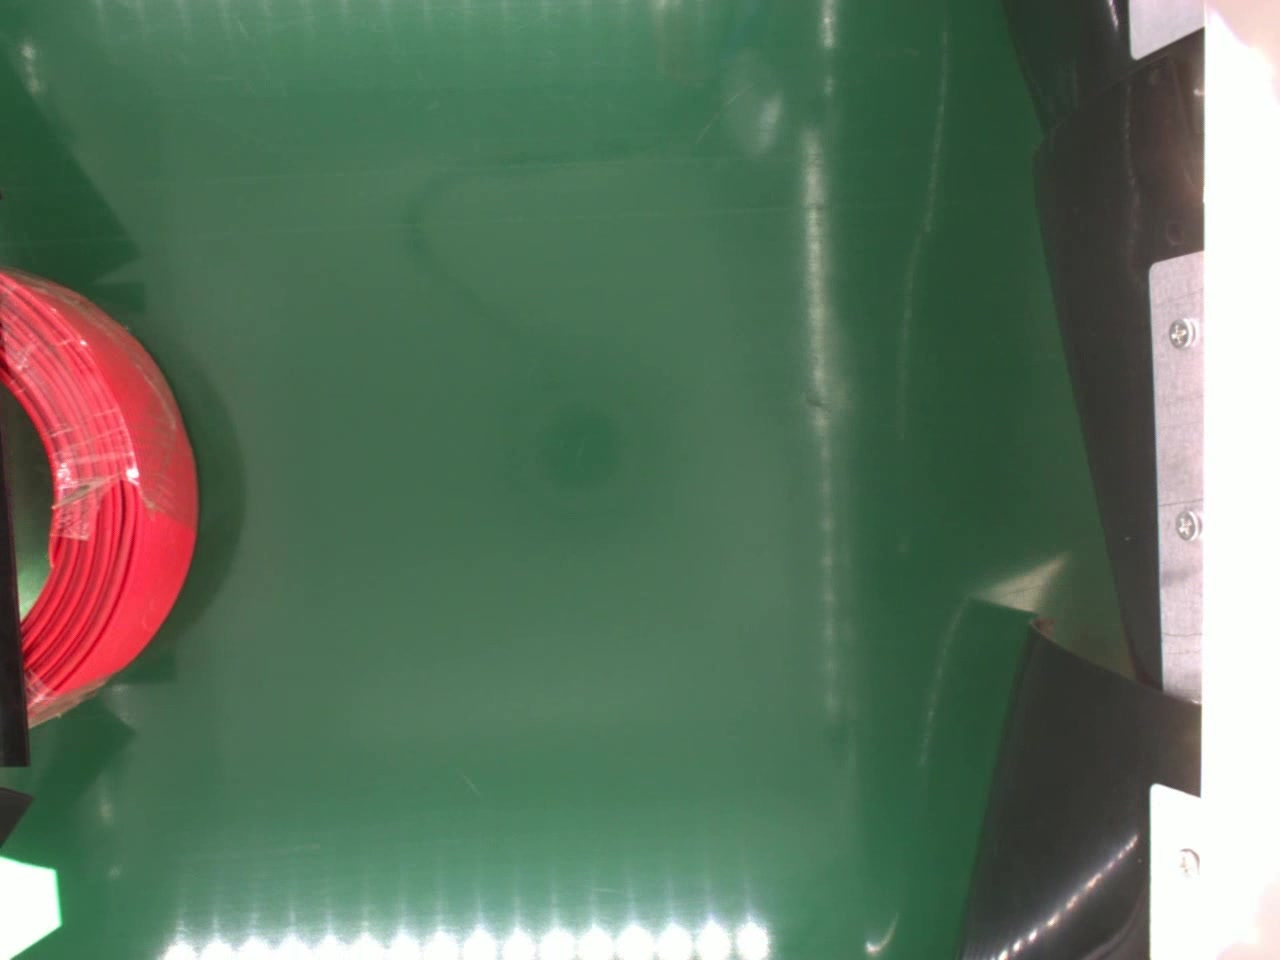red: (0, 261, 202, 720)
